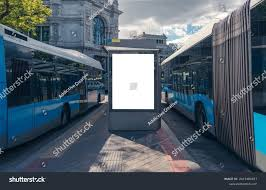bus: (160, 1, 266, 174), (1, 22, 105, 158)
